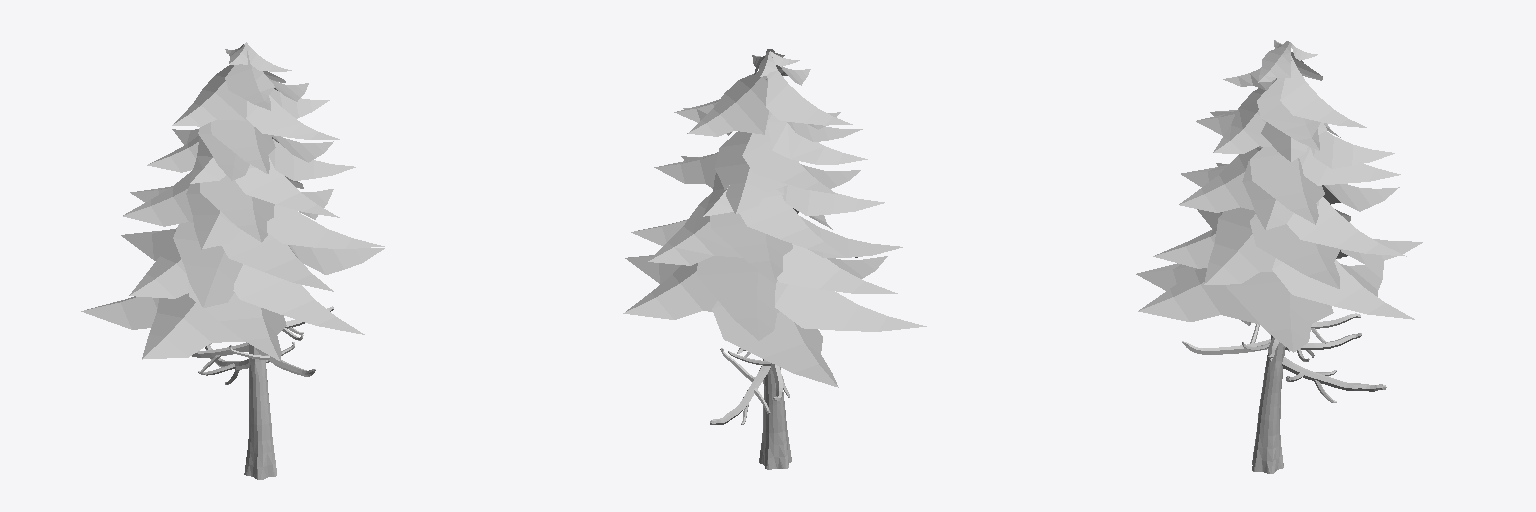
Rendered from Pine_1.obj.
3 renders of one model, left to right at view 1: azimuth 30°, elevation 25°; view 2: azimuth 150°, elevation 25°; view 3: azimuth 270°, elevation 25°, orthographic.
Visible parts, largest first — view 1: Pine_1; view 2: Pine_1; view 3: Pine_1.
Boxes of the visible parts, x1=… form: Pine_1: x1=81, y1=42, x2=384, y2=479; Pine_1: x1=623, y1=49, x2=926, y2=469; Pine_1: x1=1136, y1=40, x2=1422, y2=473.
Size of the model in its own units: 4.94 by 7.32 by 4.54.